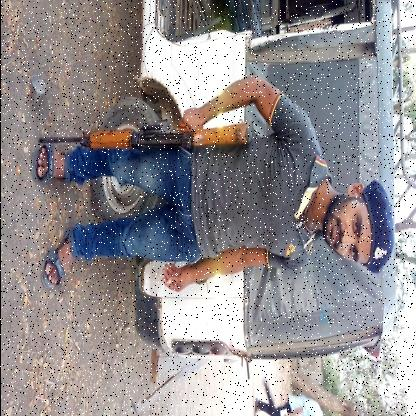rifle: (35, 117, 254, 154)
